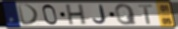0: (42, 4, 59, 26)
D: (16, 3, 41, 26)
H: (65, 3, 87, 26)
J: (92, 4, 108, 25)
Q: (114, 3, 139, 26)
T: (137, 4, 154, 26)
